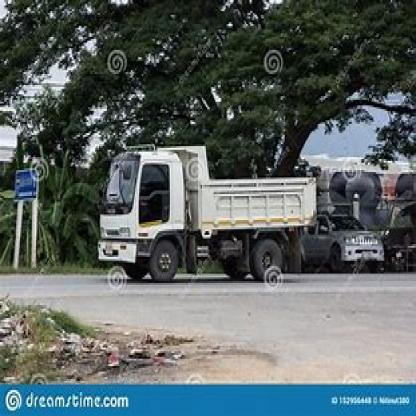dump_truck: (88, 135, 337, 301)
